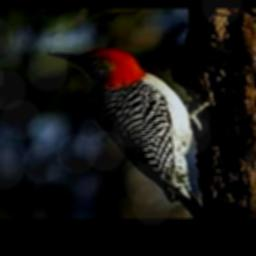Woodpecker: (47, 47, 208, 218)
